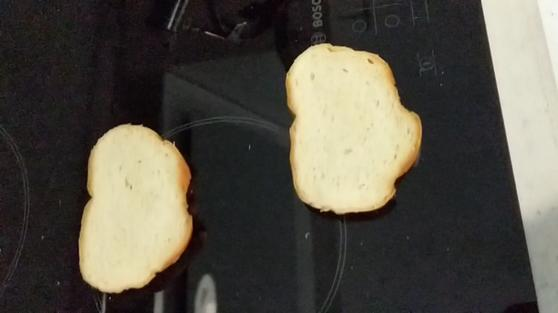white_bread: (286, 42, 424, 216), (79, 123, 193, 295)
